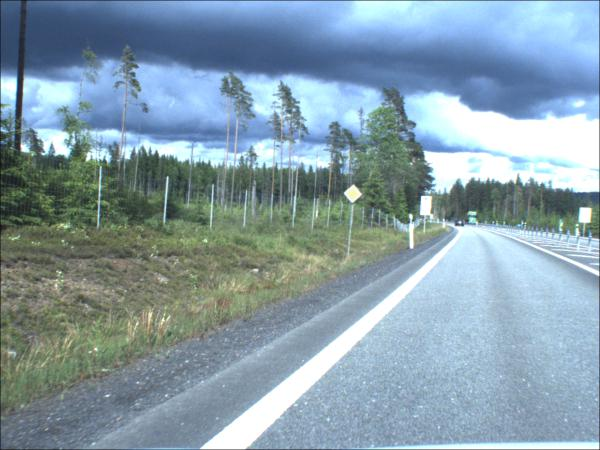PRIORITY_ROAD: (343, 184, 363, 206)
